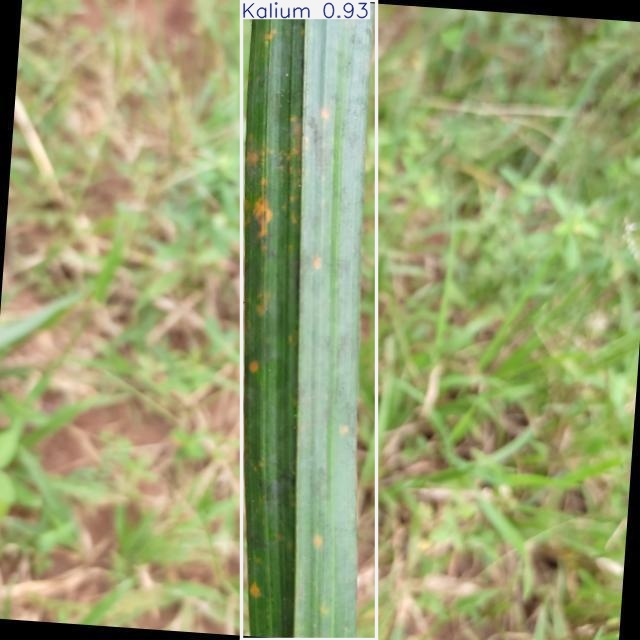Kalium: (241, 0, 377, 640)
